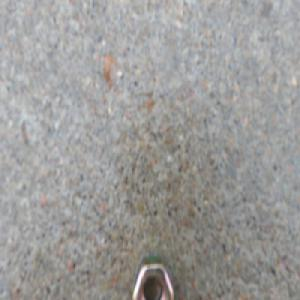Nut: (133, 254, 177, 300)
